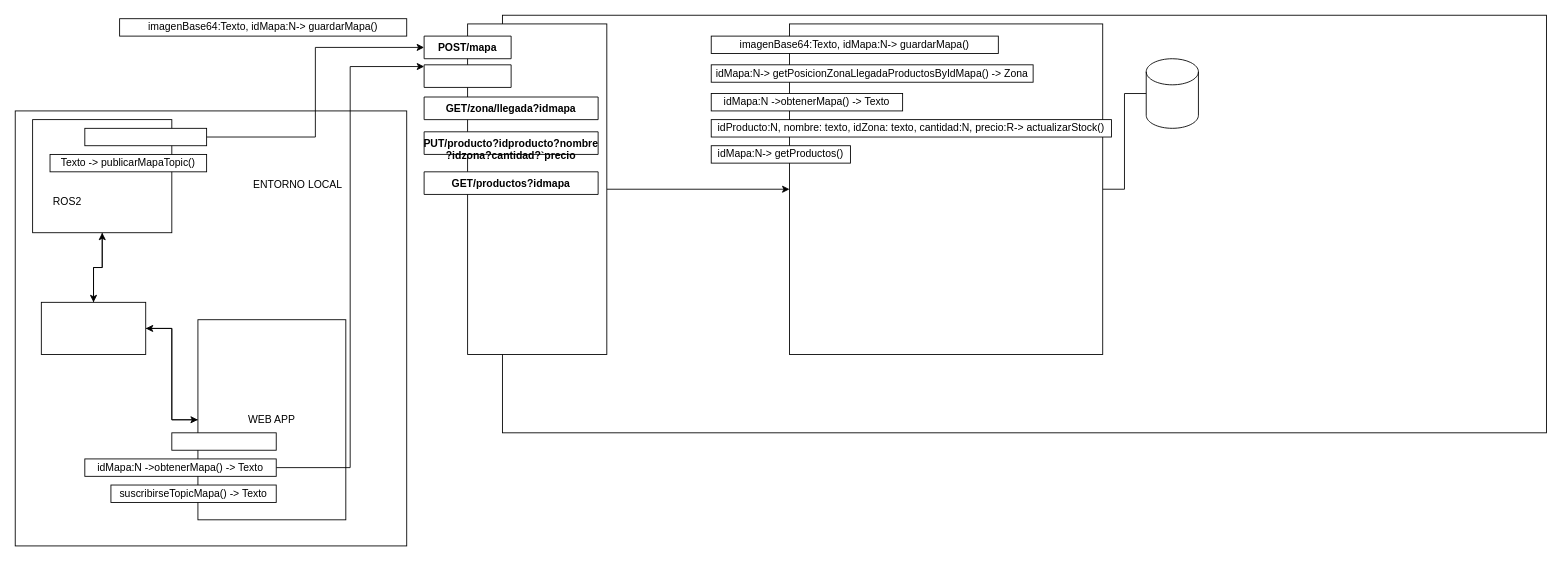
Image size: 1562x561. Some labels were removed from this diagram. The centre of each missing label's shape, as x and y in pixels:
"escanear()" belongs at (x=223, y=441).
"GET/mapa" belongs at (x=467, y=75).
"ROS BRIDGE" belongs at (x=93, y=328).
"Texto -> guardarMapa()" belongs at (x=145, y=136).
